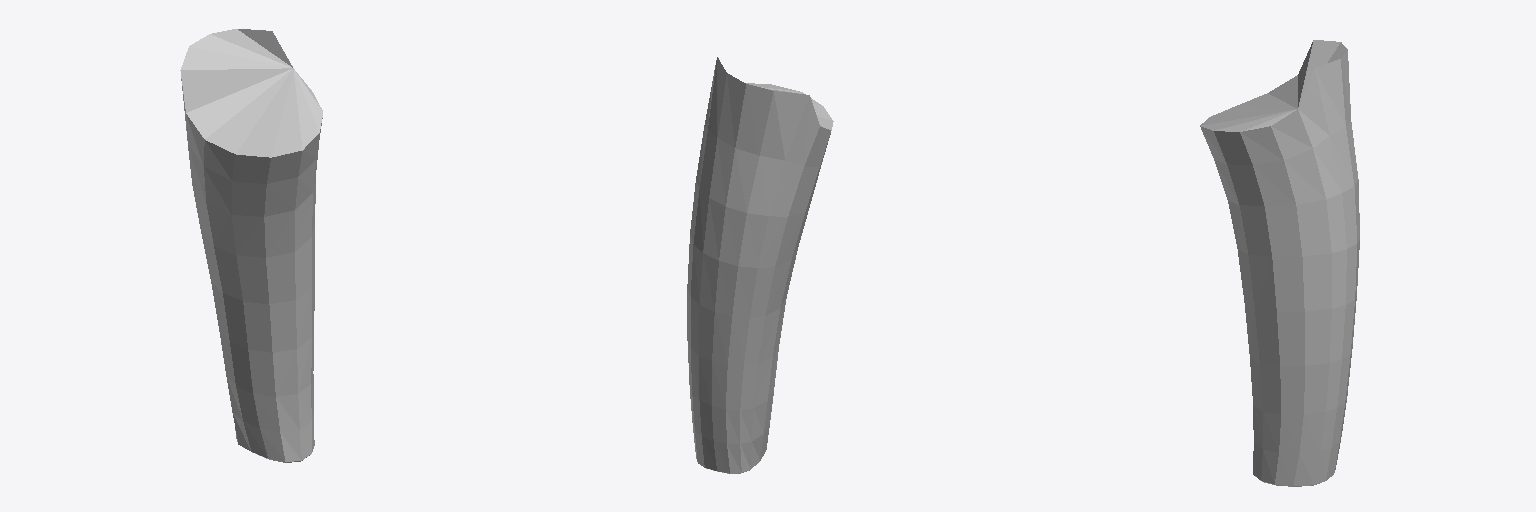
Rendered from mollet_gauche.obj.
3 renders of one model, left to right at view 1: azimuth 30°, elevation 25°; view 2: azimuth 150°, elevation 25°; view 3: azimuth 270°, elevation 25°, orthographic.
Parts seen in each view (by area): view 1: Soi_SimpleArmor.001_Plane.001; view 2: Soi_SimpleArmor.001_Plane.001; view 3: Soi_SimpleArmor.001_Plane.001.
Boxes of the visible parts, x1,y1,x2,y2 form: Soi_SimpleArmor.001_Plane.001: [180, 29, 322, 462]; Soi_SimpleArmor.001_Plane.001: [687, 57, 833, 473]; Soi_SimpleArmor.001_Plane.001: [1200, 40, 1359, 486].
Size of the model in its own units: 0.1303 by 0.4164 by 0.1481.